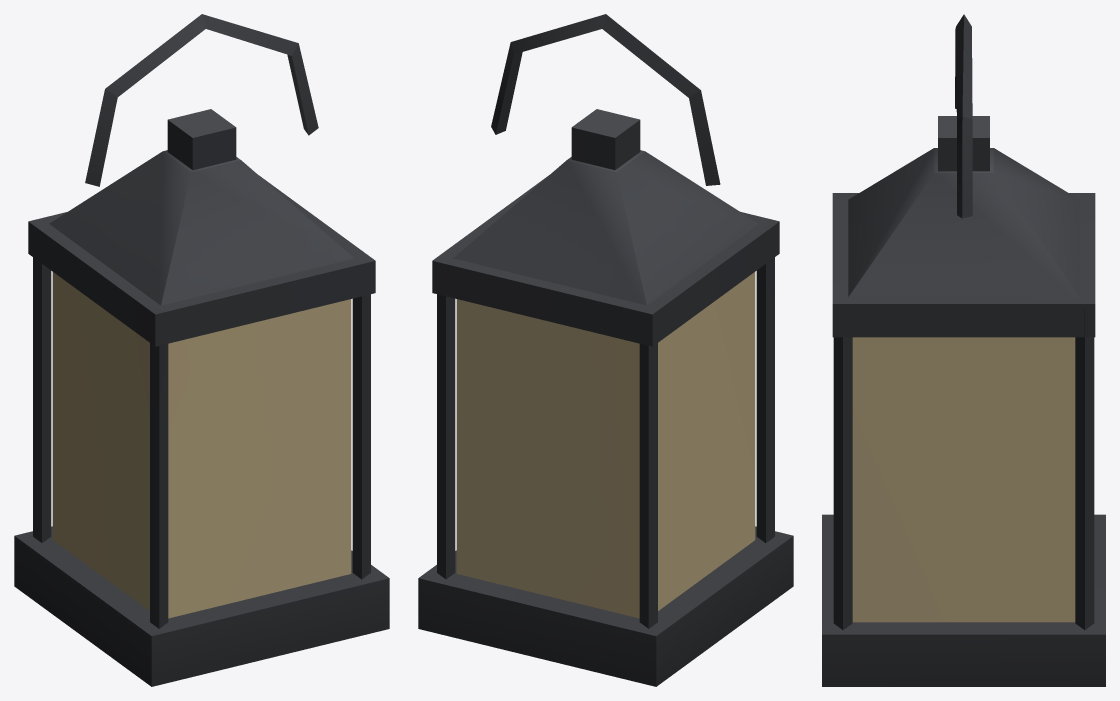
File: ph_tool_lantern_hand.glb
The picture shows the model from 3 angles, left to right: view 1: azimuth 30°, elevation 25°; view 2: azimuth 150°, elevation 25°; view 3: azimuth 270°, elevation 25°; orthographic projection. The views are drawn at different scales.
Visible parts, largest first — view 1: ph_tool_lantern_hand; view 2: ph_tool_lantern_hand; view 3: ph_tool_lantern_hand.
Part boxes in pixels (x1=…): ph_tool_lantern_hand: x1=14, y1=14, x2=389, y2=686; ph_tool_lantern_hand: x1=418, y1=14, x2=793, y2=686; ph_tool_lantern_hand: x1=822, y1=14, x2=1105, y2=686.
Bounding box in the file's own units: 0.108 × 0.2575 × 0.108.
